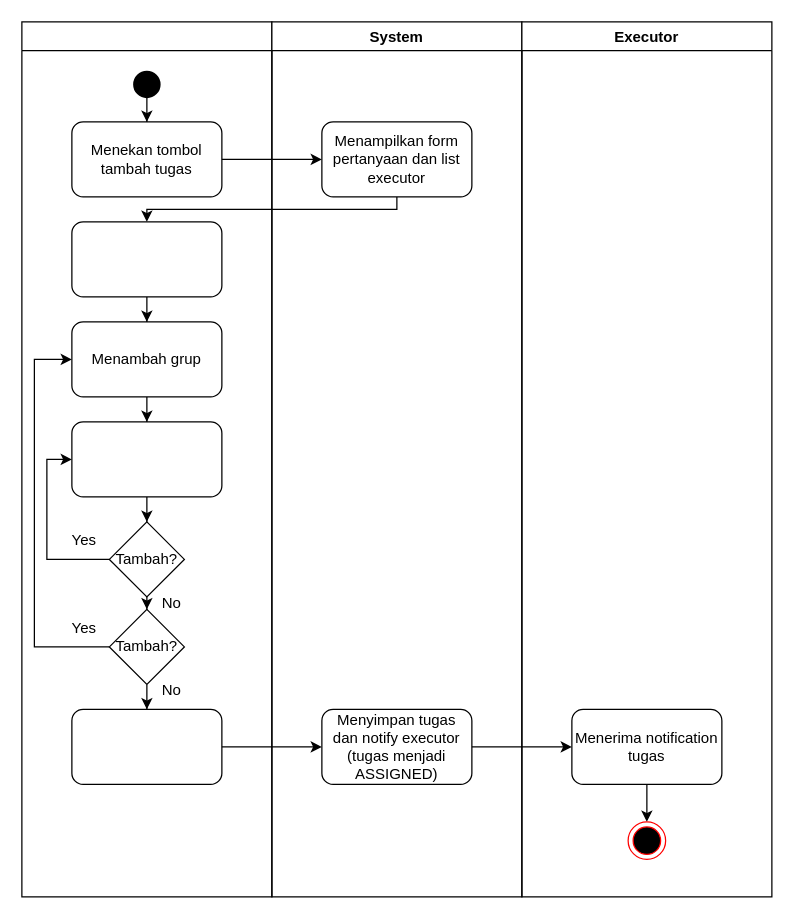
Some shapes in this 794 by 919 pixel diagram are drawn without their labels. The box of each missing label's shape, as (x1, y1, x2, y2) in pixels:
Koordinator: (21, 21, 272, 897)
Memberikan detail tugas dan executor: (71, 221, 222, 297)
Menambah pertanyaan: (71, 421, 222, 497)
Tekan tombol simpan: (71, 708, 222, 784)
